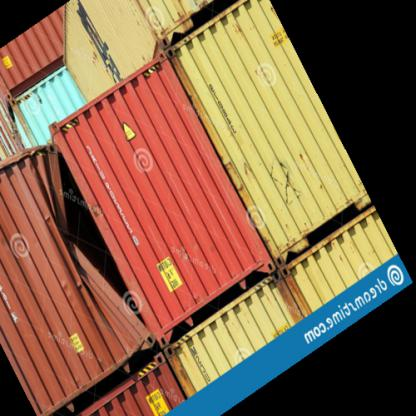Damage: (26, 141, 144, 310)
